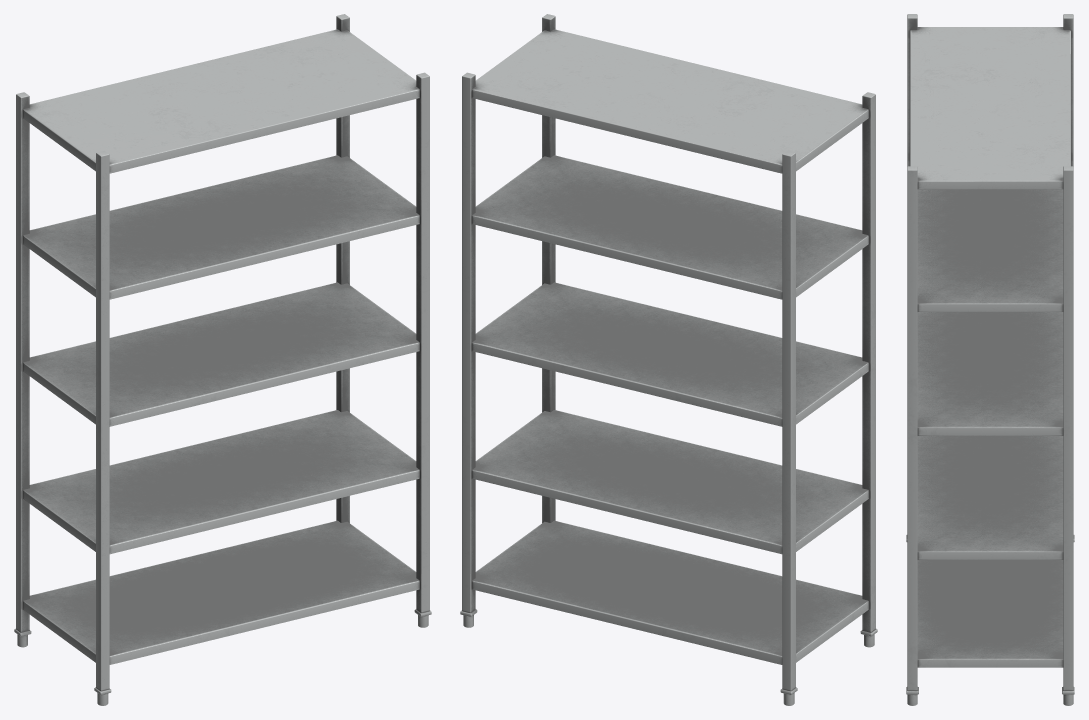
The model's file is KitchenShelf_01 1.FBX.
3 renders of one model, left to right at view 1: azimuth 30°, elevation 25°; view 2: azimuth 150°, elevation 25°; view 3: azimuth 270°, elevation 25°, orthographic. The views are drawn at different scales.
Parts seen in each view (by area): view 1: KitchenShelf_01; view 2: KitchenShelf_01; view 3: KitchenShelf_01.
Boxes of the visible parts, left/top/right/bottom form: KitchenShelf_01: left=14, top=14, right=431, bottom=705; KitchenShelf_01: left=460, top=14, right=877, bottom=705; KitchenShelf_01: left=906, top=14, right=1074, bottom=705.
Bounding box in the file's own units: 110 × 174 × 49.57.
1 material, 1 textured.
